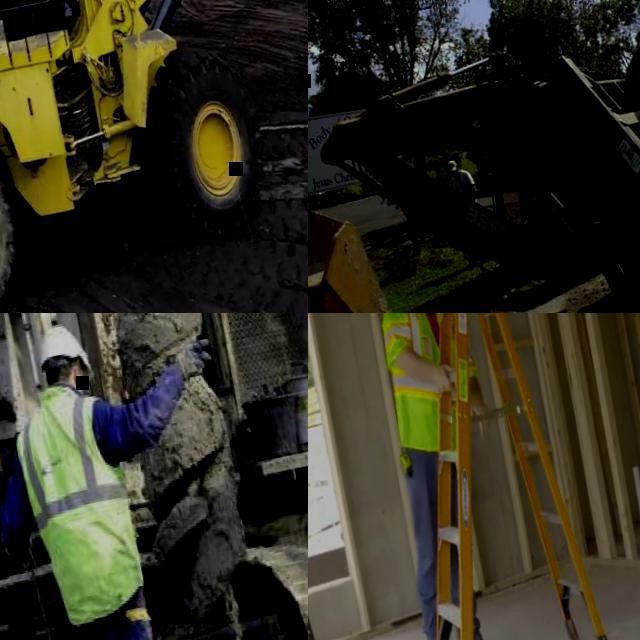helmet: (37, 320, 97, 384)
machinery: (312, 0, 640, 313), (0, 313, 308, 640), (0, 0, 308, 313), (308, 171, 500, 313)
no_helmet: (447, 157, 458, 172)
no_mask: (454, 173, 462, 179)
no_vest: (452, 170, 473, 198)
person: (0, 313, 297, 640), (344, 313, 520, 640), (210, 313, 308, 378), (444, 155, 492, 269)
vehicle: (308, 173, 325, 213)
vest: (5, 377, 156, 629), (372, 313, 484, 411)
